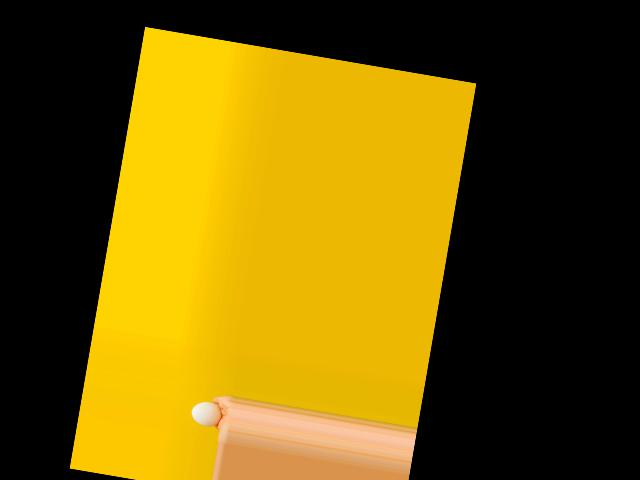egg: (189, 399, 223, 427)
